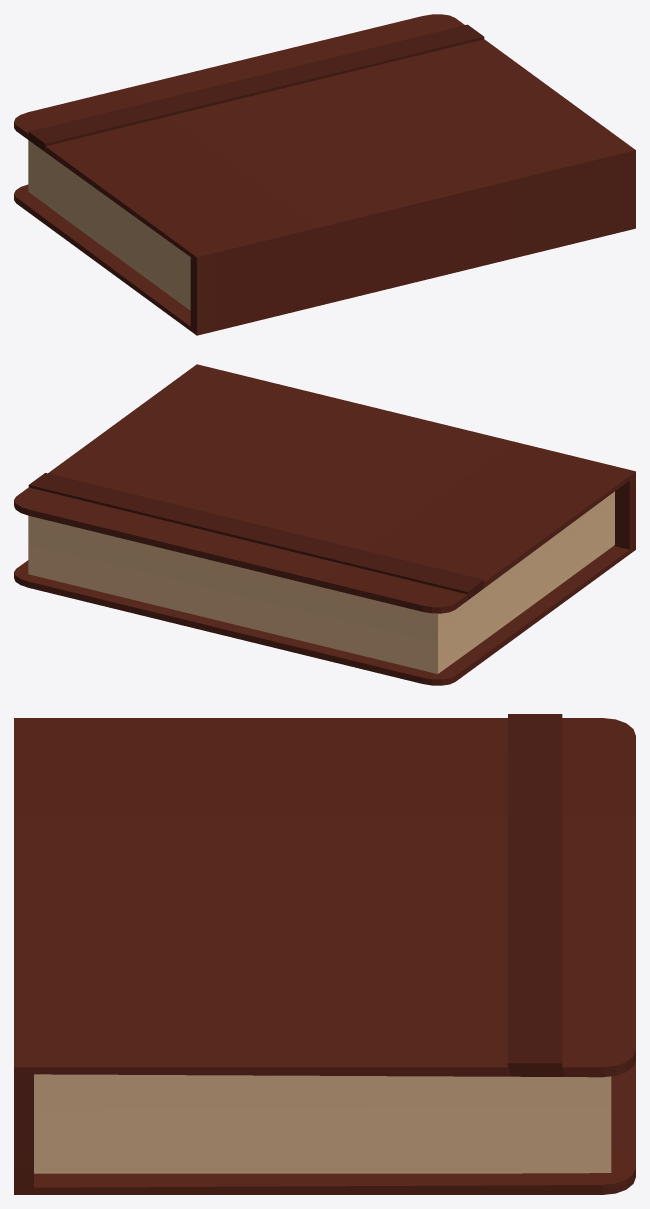
Rendered from TravelKit.fbx.
3 renders of one model, top to bottom at view 1: azimuth 30°, elevation 25°; view 2: azimuth 150°, elevation 25°; view 3: azimuth 270°, elevation 25°, orthographic. The views are drawn at different scales.
Visible parts, largest first — view 1: TravelKit; view 2: TravelKit; view 3: TravelKit.
Boxes of the visible parts, box(x1,y1,x2,y2) form: TravelKit: box(14, 14, 635, 335); TravelKit: box(14, 364, 635, 685); TravelKit: box(14, 714, 635, 1194).
Bounding box in the file's own units: 232 × 40.76 × 174.
